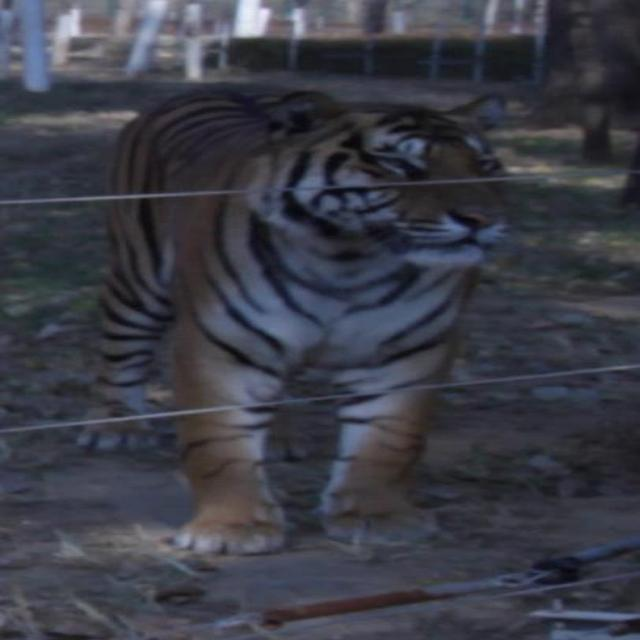tiger: (75, 85, 512, 558)
